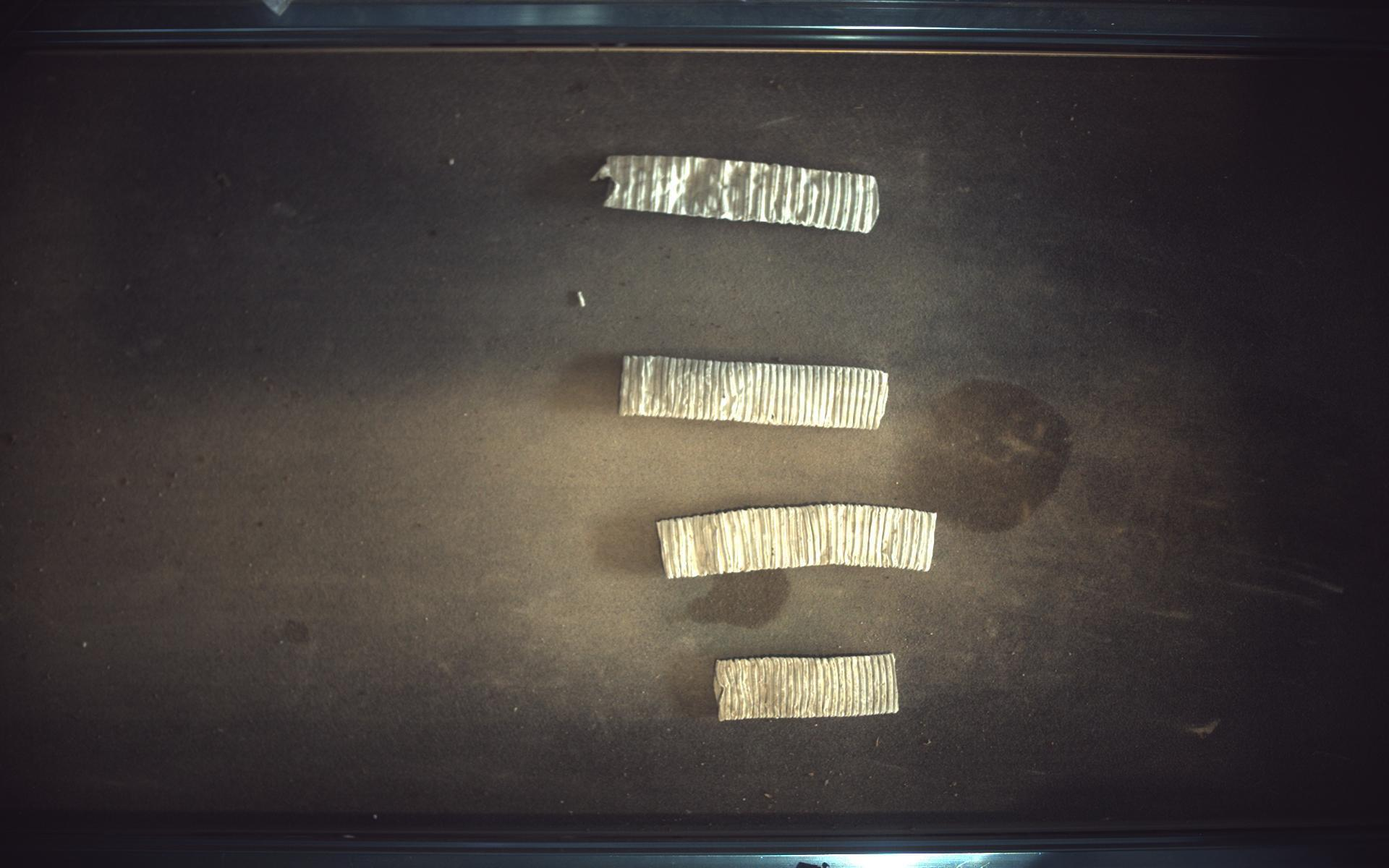pipes: (593, 154, 881, 233), (658, 504, 938, 579), (620, 355, 891, 430), (715, 655, 901, 722)
